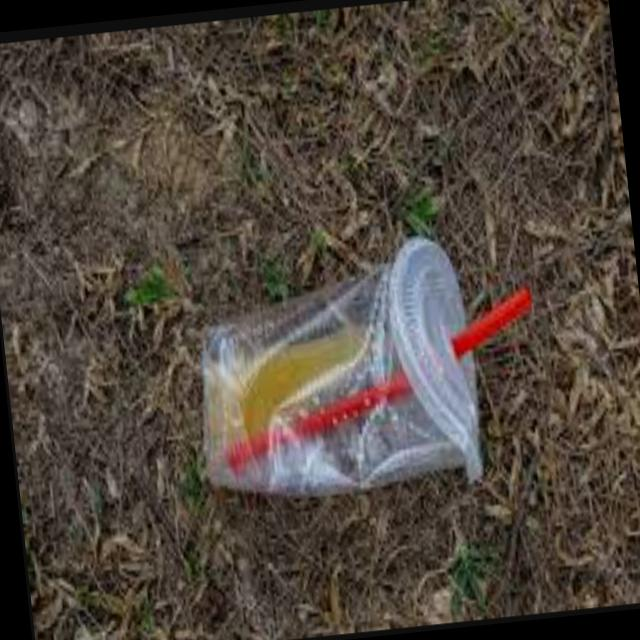GelasPlastik: (163, 188, 562, 542)
